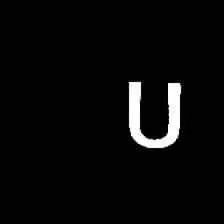LTR_U: (120, 76, 184, 153)
